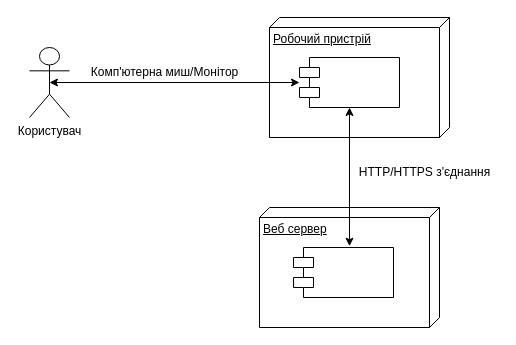
This 516x345 diagram has some shape labels left out. Each missing label, with the centre of its shape:
"Браузер" goes at (349,82).
"Файли застосунку" goes at (343,272).
